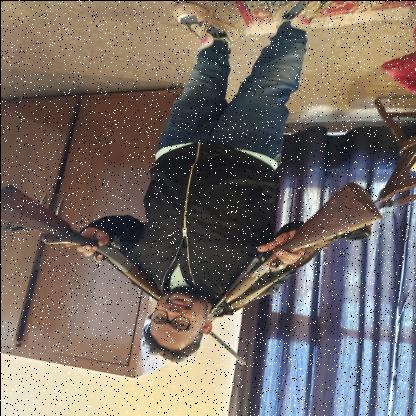rifle: (0, 182, 247, 366), (204, 179, 383, 322)
